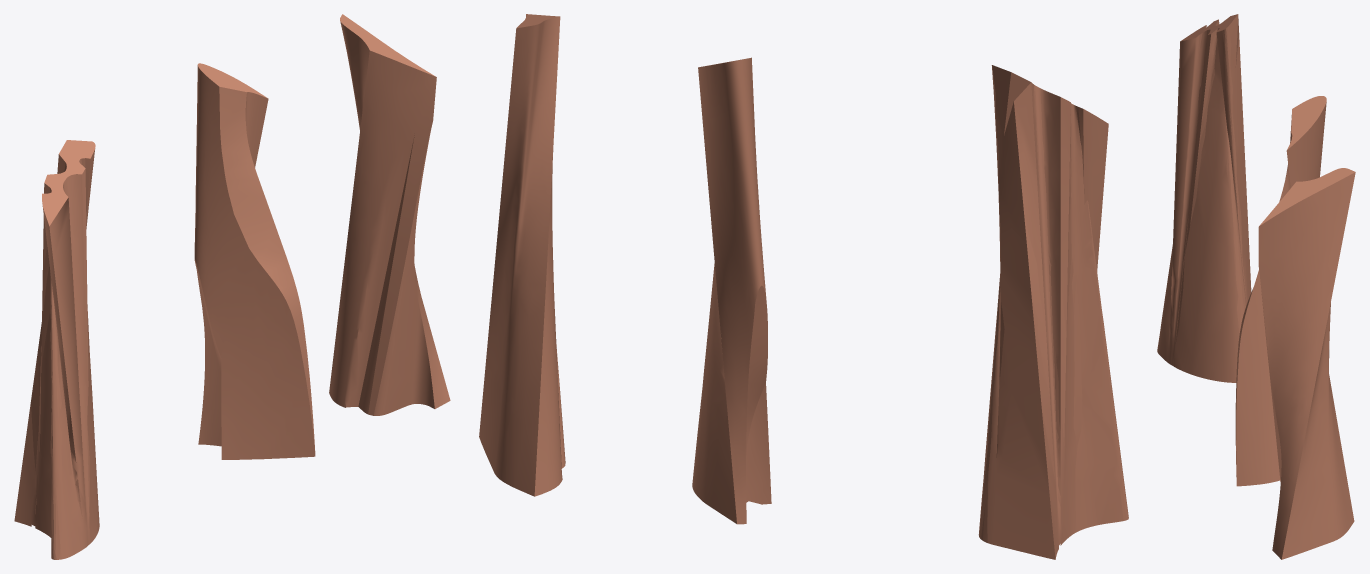
Rendered from Neda.fbx.
3 views of the same model, side by side, from view 1: azimuth 30°, elevation 25°; view 2: azimuth 150°, elevation 25°; view 3: azimuth 270°, elevation 25° (orthographic). The views are drawn at different scales.
Parts seen in each view (by area): view 1: Neda-2, Neda-1, Neda-3; view 2: Neda-3, Neda-1, Neda-2; view 3: Neda-1, Neda-3, Neda-2.
Boxes of the visible parts, bbox=[...] form: Neda-2: bbox=[194, 63, 315, 459]; Neda-1: bbox=[329, 14, 450, 415]; Neda-3: bbox=[14, 140, 99, 559]; Neda-3: bbox=[978, 65, 1128, 559]; Neda-1: bbox=[479, 14, 565, 496]; Neda-2: bbox=[692, 57, 771, 524]; Neda-1: bbox=[1258, 168, 1355, 559]; Neda-3: bbox=[1157, 14, 1251, 382]; Neda-2: bbox=[1235, 96, 1326, 486].
Bounding box in the file's own units: 2432 × 1898 × 955.
